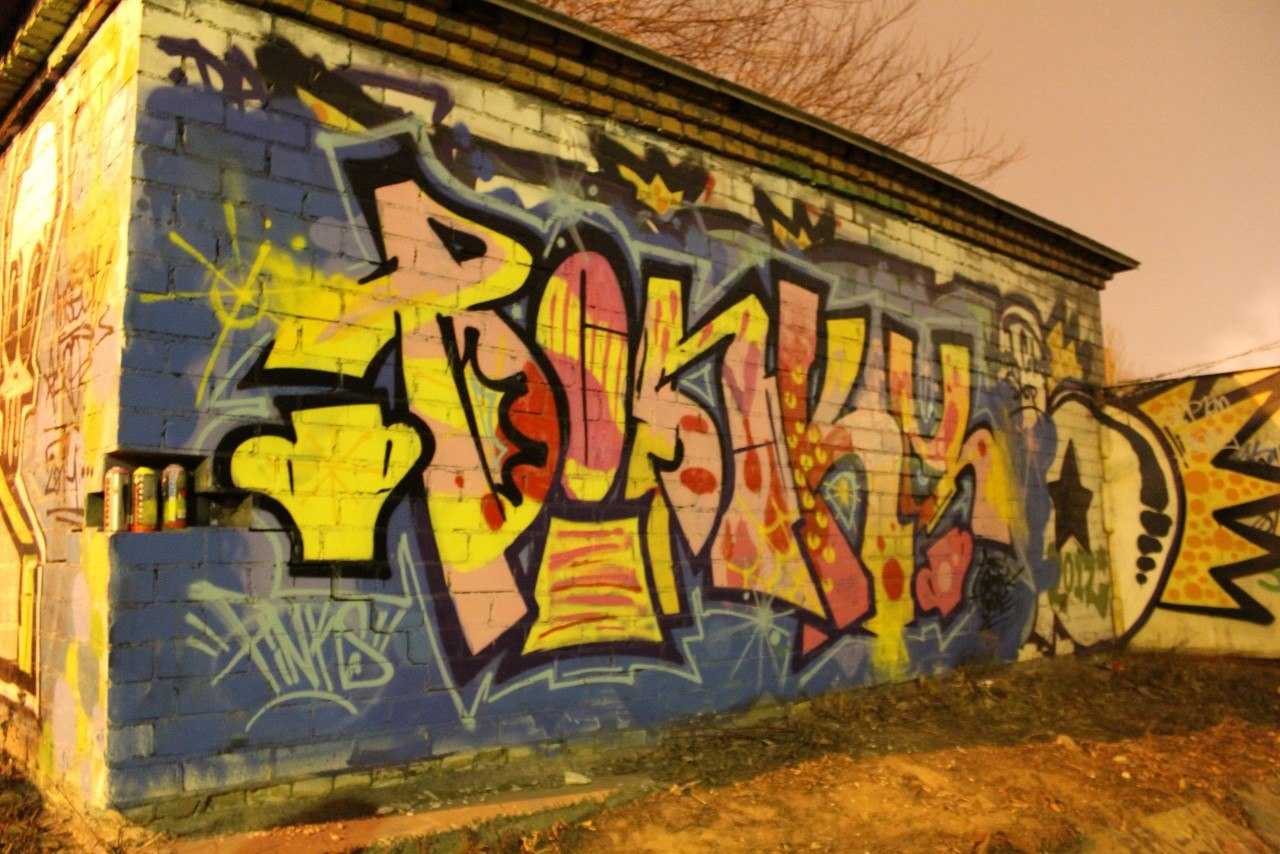graffity: (99, 21, 1053, 771), (1008, 286, 1275, 675)
